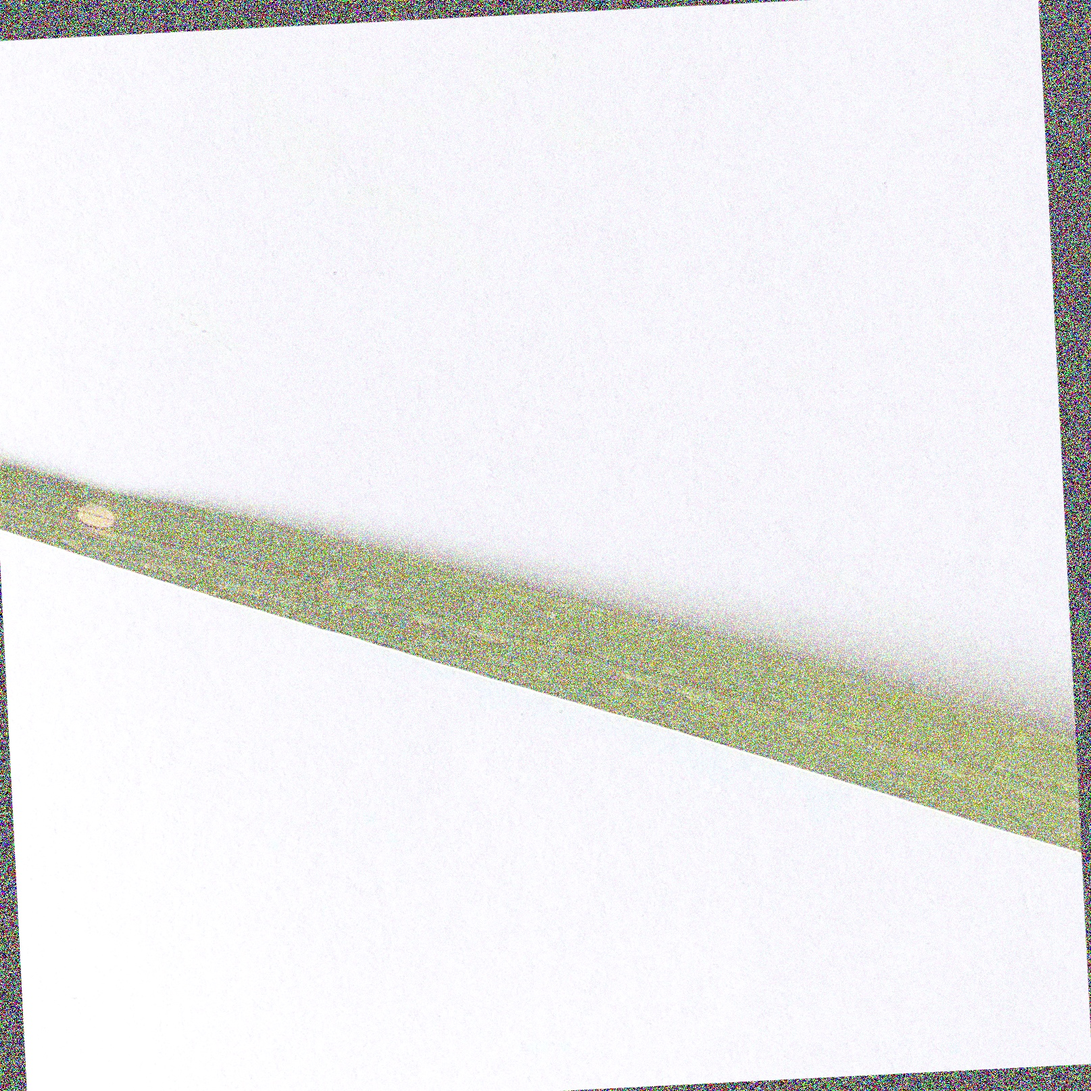Brown_Spot: (55, 484, 128, 536)
